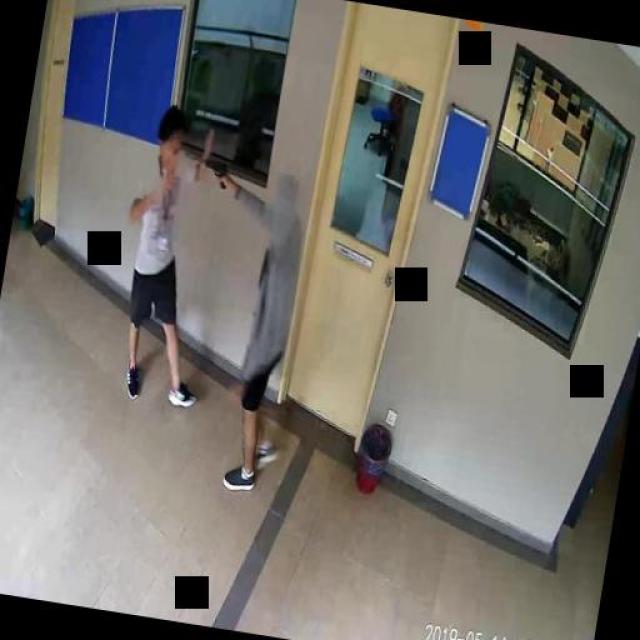gun: (199, 154, 229, 188)
